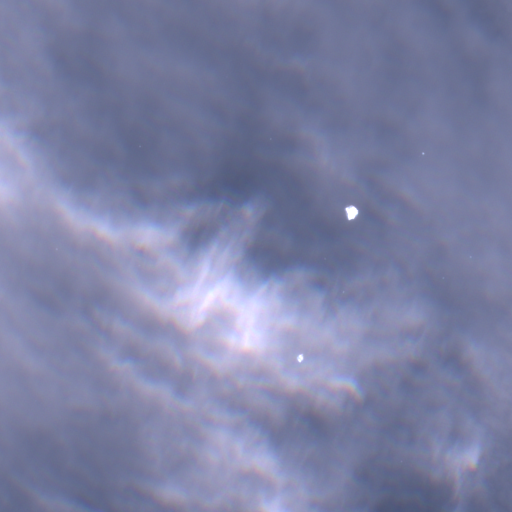Iceberg: (345, 205, 358, 220), (297, 354, 303, 362), (422, 152, 424, 154)
